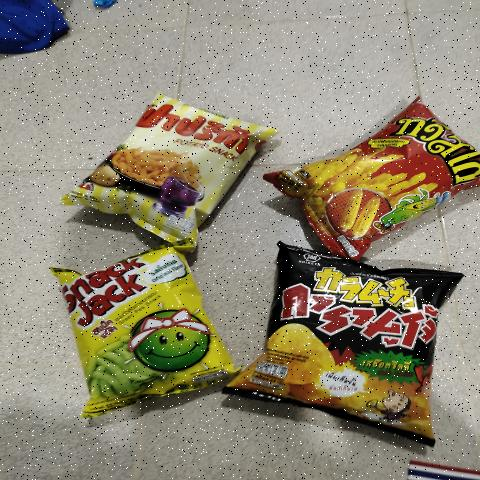karamujo: (267, 255, 440, 434)
paprika: (126, 92, 256, 237)
snack_jack: (35, 256, 227, 399)
twisco: (290, 110, 480, 256)
